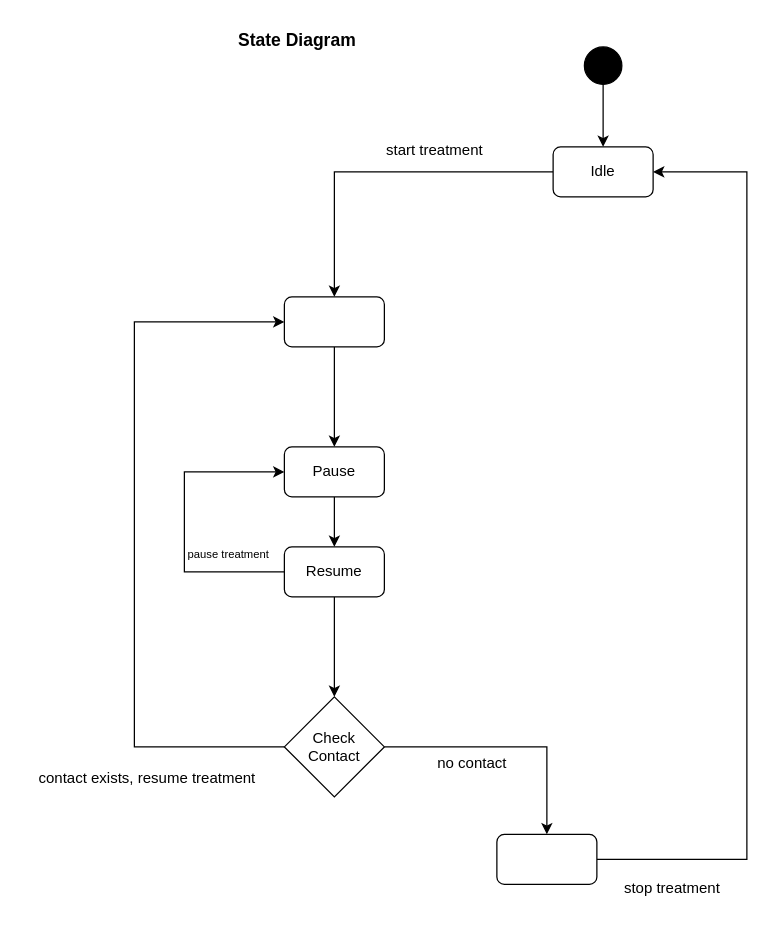
Some shapes in this 779 by 928 pixel diagram are drawn without their labels. Each missing label, with the centre of its shape:
"Contact Lost" belongs at [546,858].
"Session/ treatment" belongs at [333,321].
